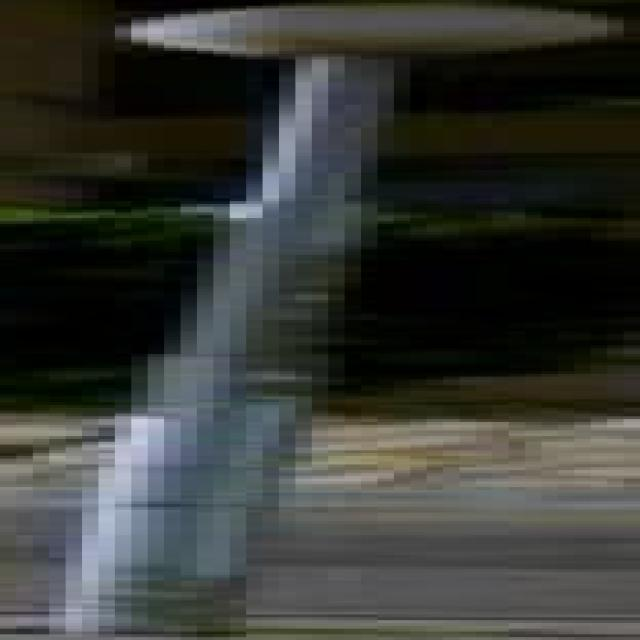street light: (16, 3, 640, 640)
